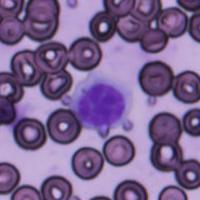L: (70, 72, 133, 131)
